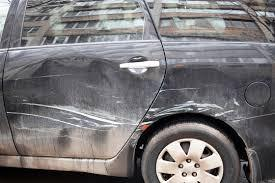scratch: (6, 83, 251, 139)
